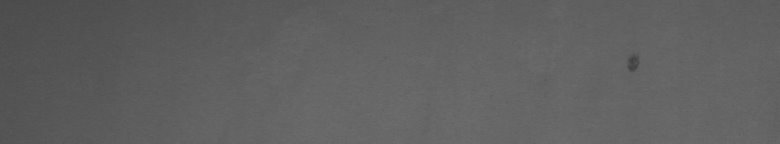fi: (624, 52, 643, 76)
